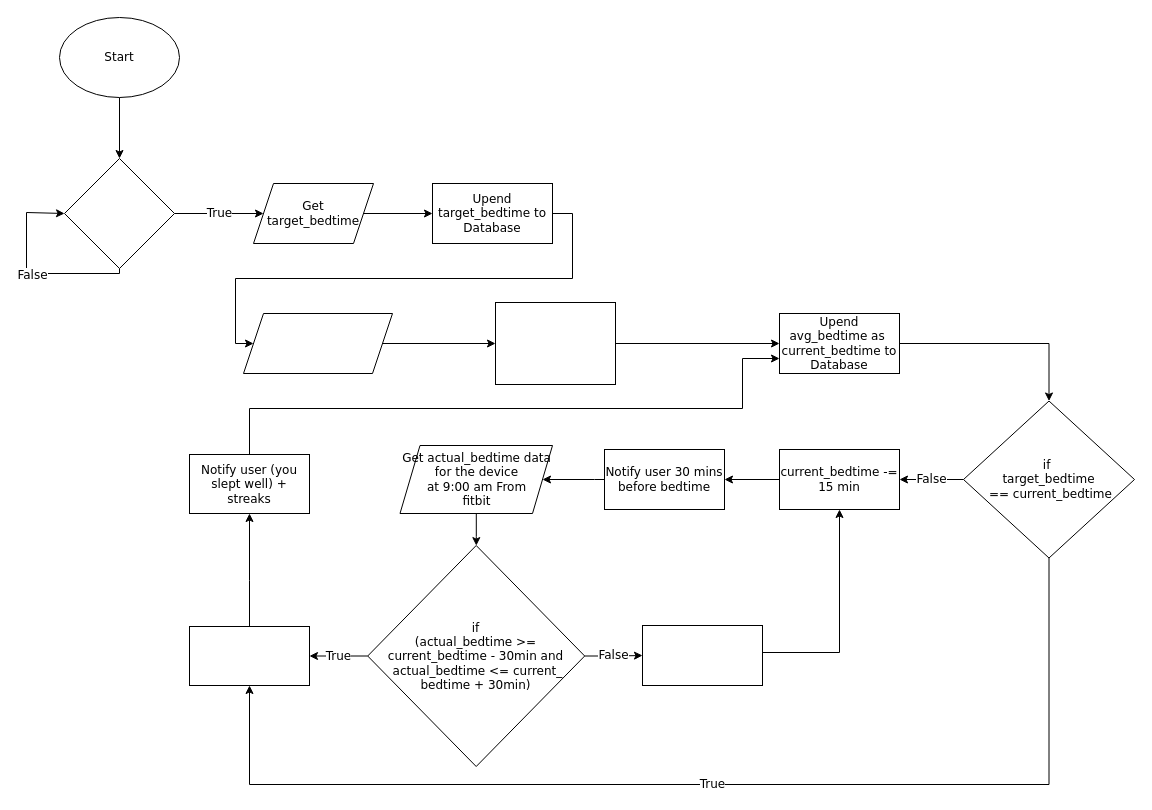
The diagram is 1152 pixels wide and 810 high, and some of its shapes have lost their labels. The box of each missing label's shape, as (x1, y1, x2, y2) in pixels:
Calculate days needed = (avg_bedtime - target_bedtime)/ 15: (494, 302, 616, 384)
Get users avg_bedtime from fitbit (last 7day): (242, 312, 392, 374)
Login Process: (64, 158, 174, 268)
Streak == 0: (642, 624, 762, 686)
streak+= 1: (188, 626, 310, 686)
